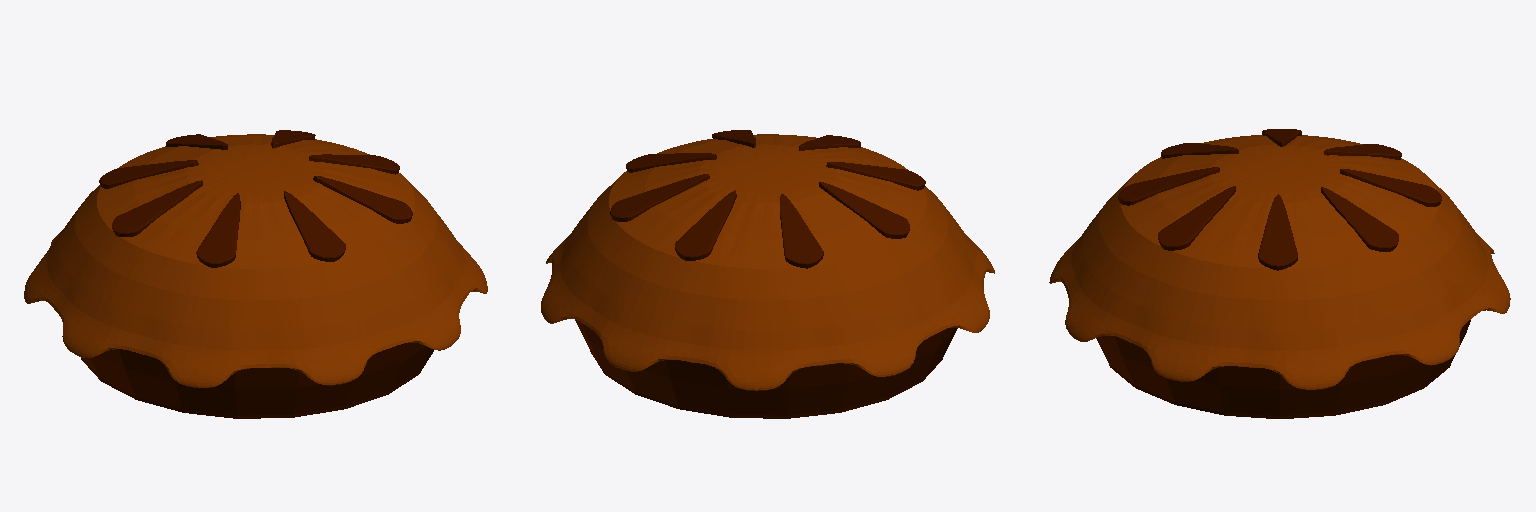
Rendered from Pie02.obj.
The picture shows the model from 3 angles: view 1: azimuth 30°, elevation 25°; view 2: azimuth 150°, elevation 25°; view 3: azimuth 270°, elevation 25°; orthographic projection.
Parts seen in each view (by area): view 1: Pie02_Cylinder.009; view 2: Pie02_Cylinder.009; view 3: Pie02_Cylinder.009.
Boxes of the visible parts, x1,y1,x2,y2 form: Pie02_Cylinder.009: [24, 130, 487, 418]; Pie02_Cylinder.009: [541, 130, 994, 418]; Pie02_Cylinder.009: [1049, 129, 1510, 418].
Size of the model in its own units: 1.87 by 0.7879 by 1.87.